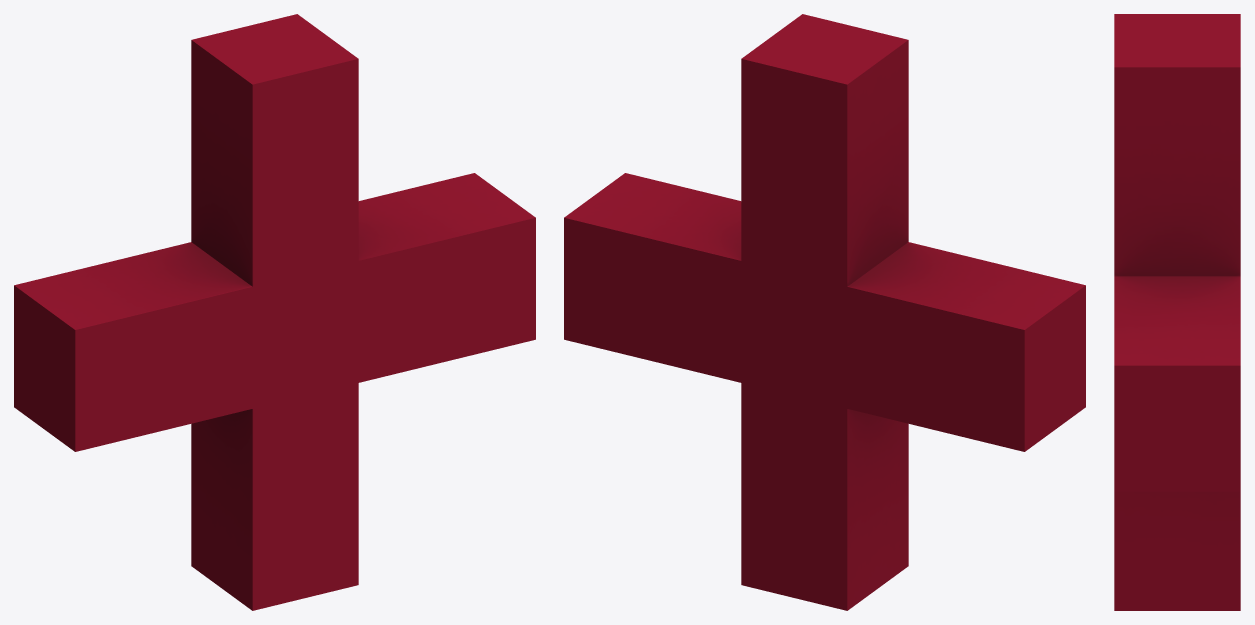
Rendered from HEALTH.obj.
3 renders of one model, left to right at view 1: azimuth 30°, elevation 25°; view 2: azimuth 150°, elevation 25°; view 3: azimuth 270°, elevation 25°, orthographic. The views are drawn at different scales.
Parts seen in each view (by area): view 1: pCube1; view 2: pCube1; view 3: pCube1.
Part boxes in pixels (x1,y1,x2,y2): pCube1: (14, 14, 535, 610); pCube1: (564, 14, 1085, 610); pCube1: (1114, 14, 1240, 610).
Bounding box in the file's own units: 2.99 × 3.27 × 0.6884.
